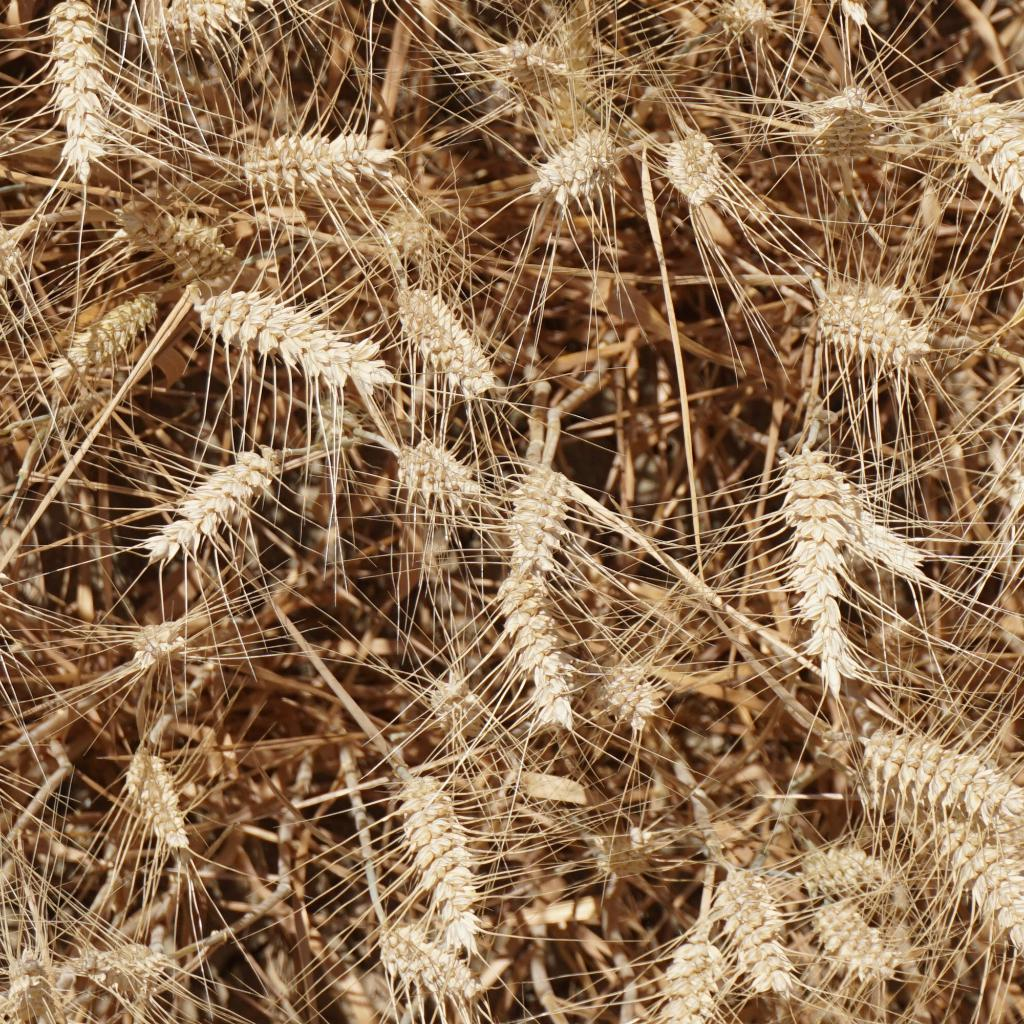0-0: (787, 452, 877, 668), (152, 429, 294, 561), (393, 776, 503, 938), (203, 284, 369, 388), (396, 278, 510, 403), (493, 567, 579, 726), (39, 0, 118, 163), (931, 78, 1024, 208), (815, 267, 930, 362), (945, 810, 1024, 948), (867, 725, 999, 806), (368, 923, 483, 1009), (118, 200, 243, 277), (257, 129, 385, 203), (128, 746, 213, 857), (719, 873, 800, 988), (827, 502, 925, 597), (58, 285, 157, 378), (656, 918, 742, 1024), (500, 470, 574, 571), (391, 436, 482, 510), (806, 896, 884, 982), (69, 945, 169, 1012), (591, 654, 664, 731), (803, 89, 877, 163), (539, 128, 614, 201), (799, 832, 883, 892), (659, 137, 729, 207), (129, 615, 199, 681), (423, 671, 487, 743), (157, 0, 240, 52), (387, 206, 443, 277), (4, 955, 60, 1024), (504, 32, 560, 91), (0, 223, 27, 328), (725, 0, 776, 41), (0, 559, 18, 651), (786, 0, 876, 18), (323, 0, 419, 15), (231, 0, 294, 18)
